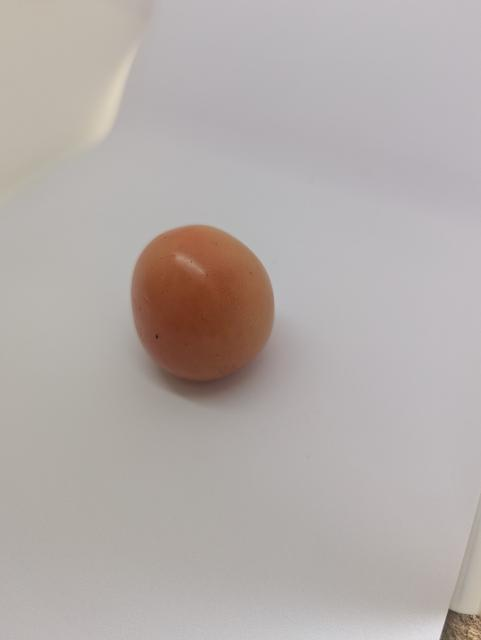turning: (129, 222, 280, 385)
